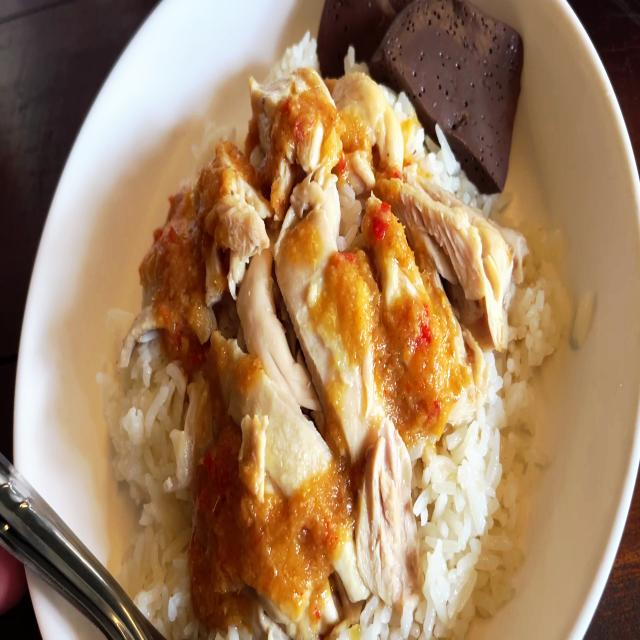boiled_chicken: (167, 65, 442, 582)
boiled_chicken_blood_jelly: (320, 0, 517, 170)
chicken_rice: (105, 0, 593, 640)
